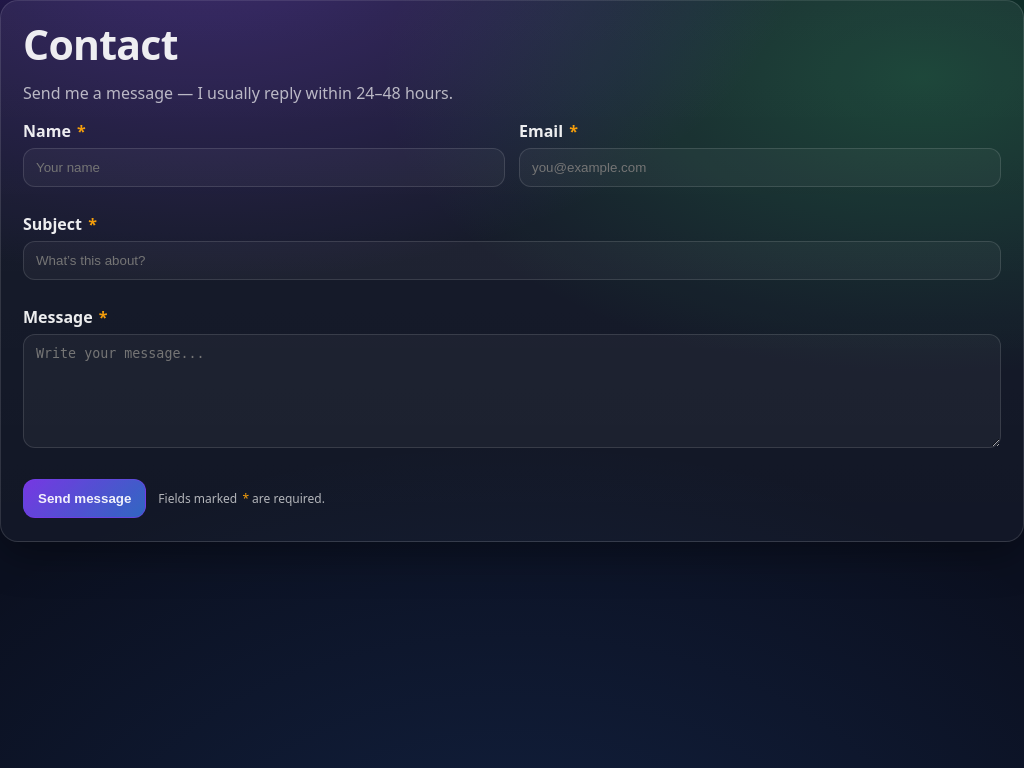
Contact page (form validation) › submits successfully with valid values and shows success banner
Type "Daniel Cassar" into the field labelled "Name *" at [264, 168], box [23,148,505,187]
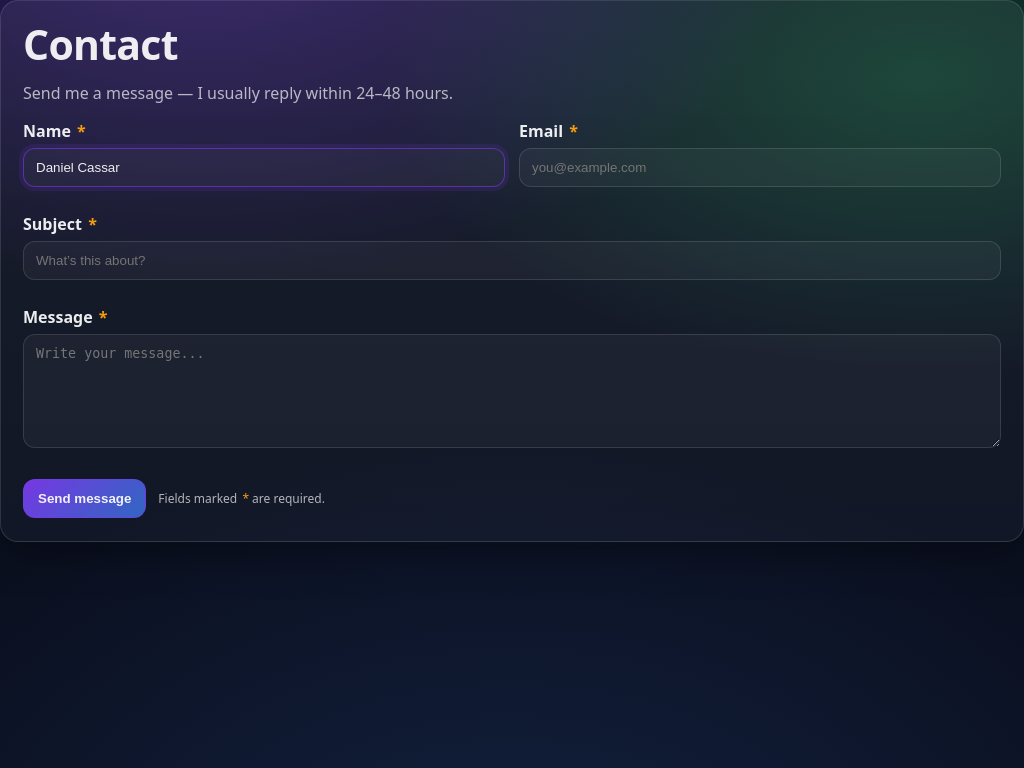
Type "daniel@example.com" into the field labelled "Email *" at [760, 168], box [519,148,1001,187]
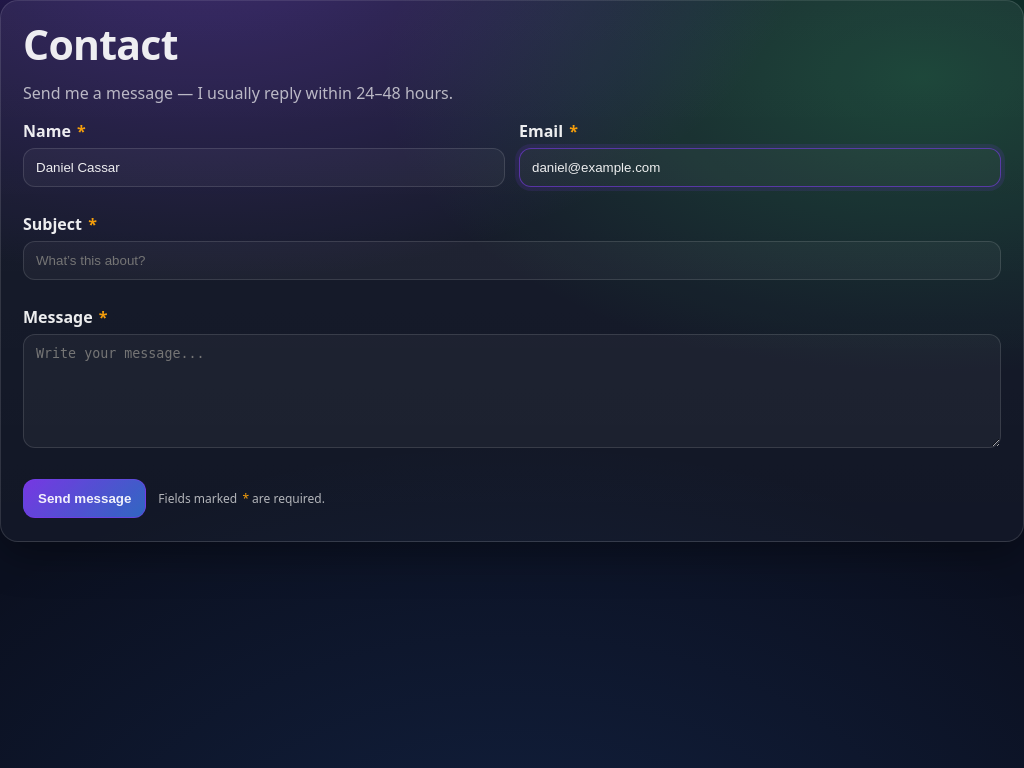
Type "Portfolio" into the field labelled "Subject *" at [512, 260], box [23,241,1001,280]
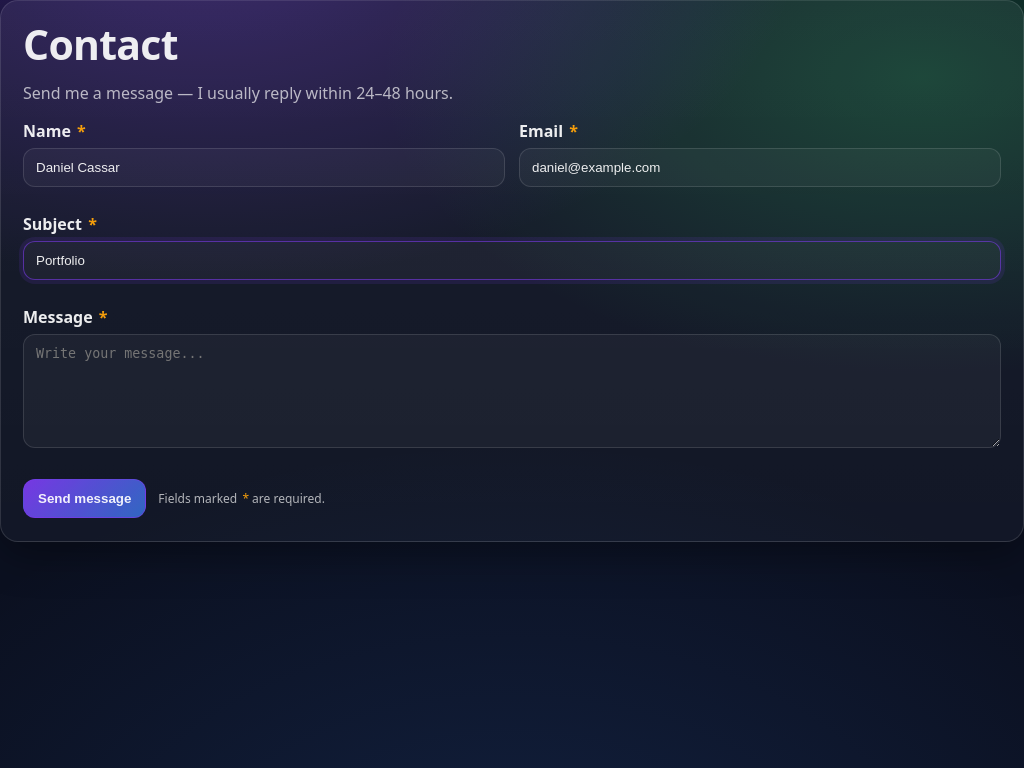
Type "This is a valid message." into the text box labelled "Message *" at [512, 391], box [23,334,1001,448]
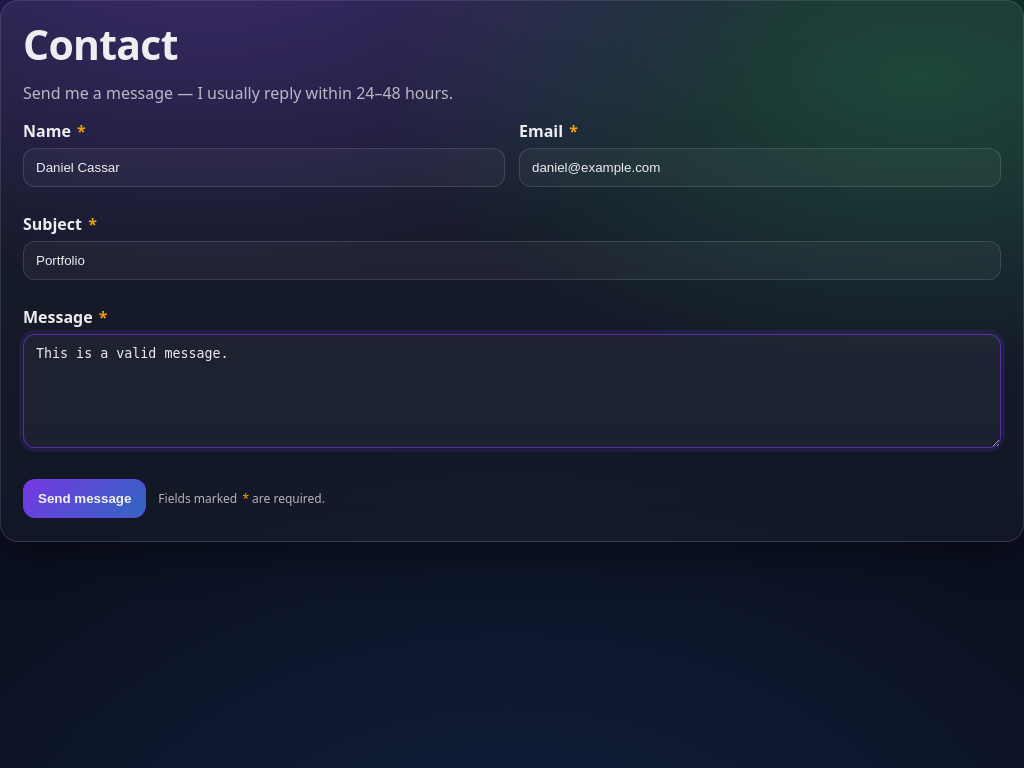
Click the button "Send message" at [85, 498], box [23,479,146,518]
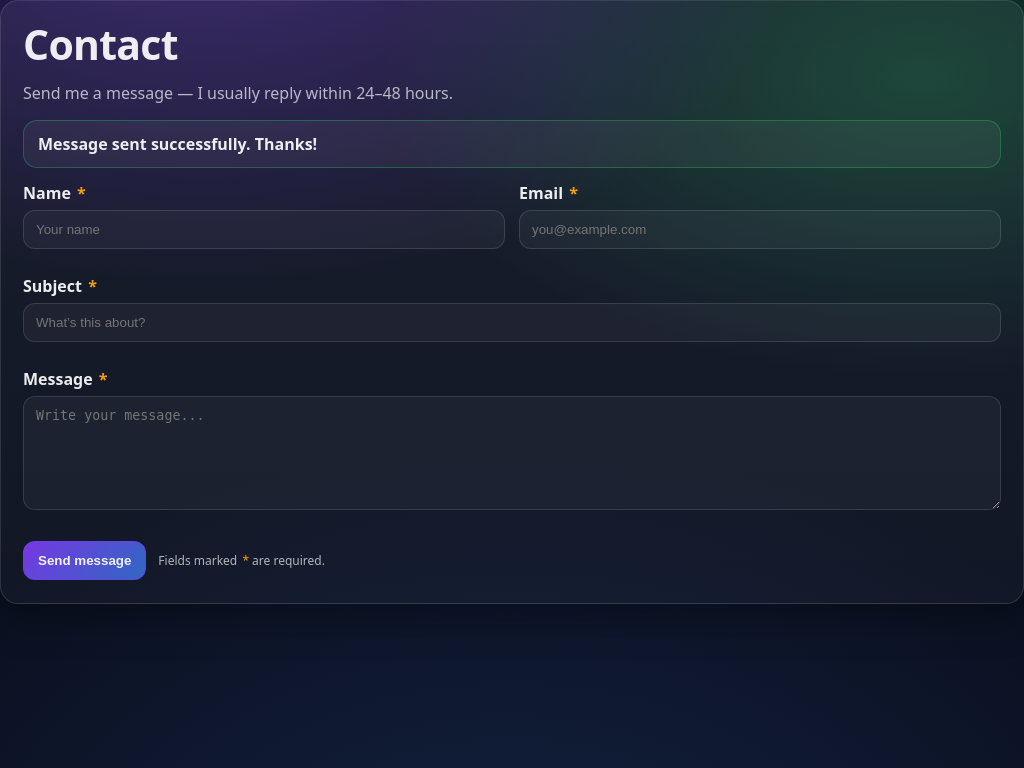
Result: the text "Message sent successfully. Thanks!" is shown at [23,120,1001,168]
